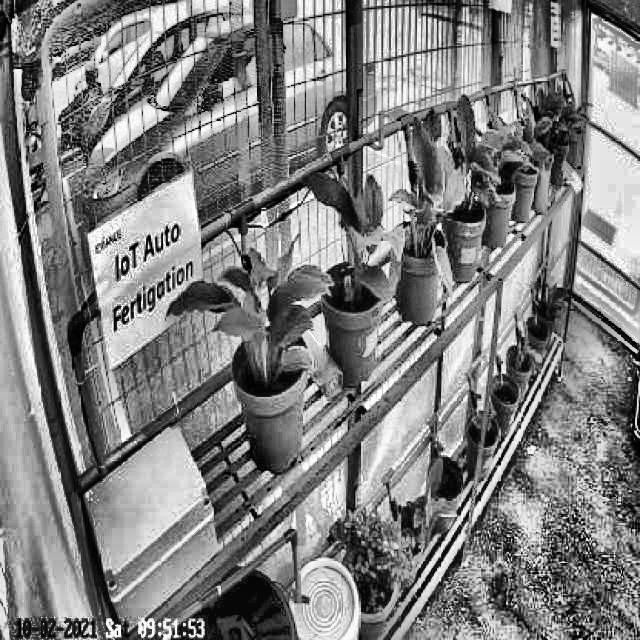plants: (166, 230, 334, 370), (306, 162, 405, 310), (390, 103, 455, 303), (430, 94, 508, 218)
